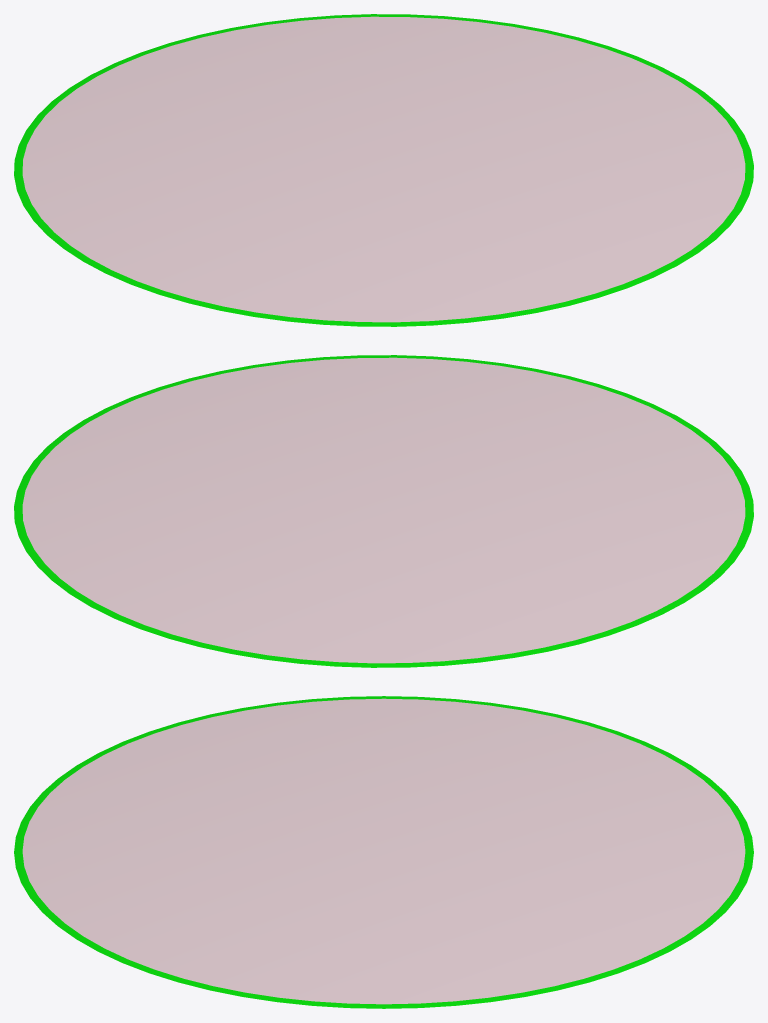
File: CurcleMesh.fbx
3 views of the same model, one above another, from view 1: azimuth 30°, elevation 25°; view 2: azimuth 150°, elevation 25°; view 3: azimuth 270°, elevation 25° (orthographic).
Visible parts, largest first — view 1: Cylinder; view 2: Cylinder; view 3: Cylinder.
Part boxes in pixels (left/top/right/bottom): Cylinder: left=14, top=14, right=753, bottom=326; Cylinder: left=14, top=355, right=753, bottom=667; Cylinder: left=14, top=696, right=753, bottom=1008.
Bounding box in the file's own units: 1638 × 2.3 × 1638.
